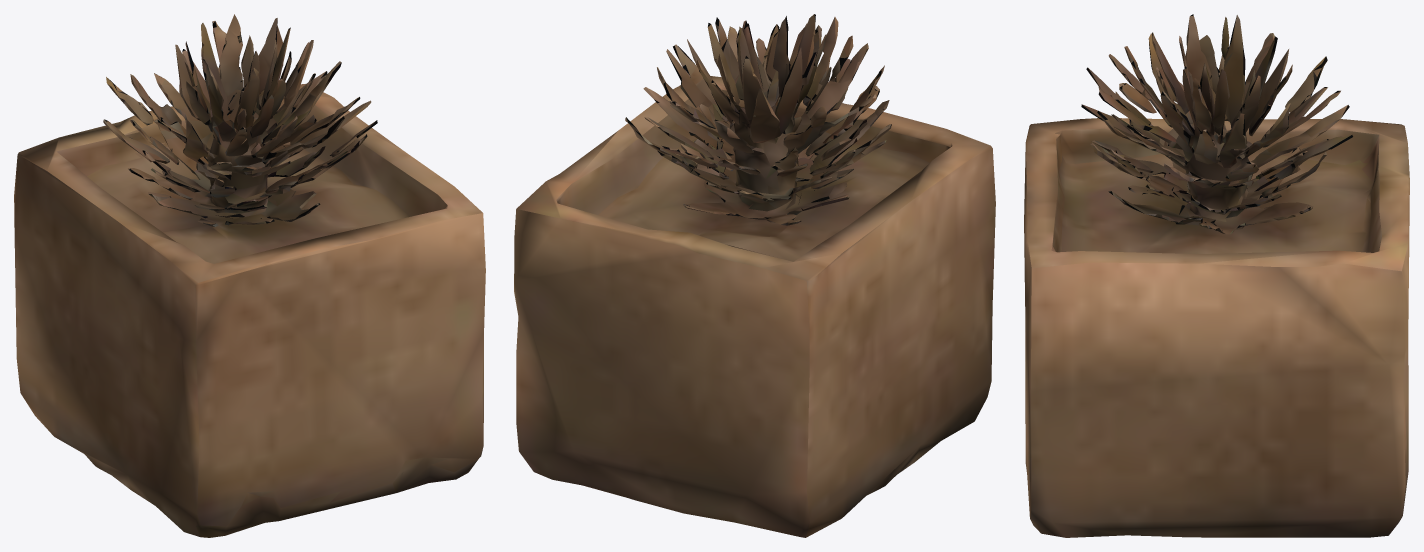
Rendered from rustic-sandstone-planter-v001.glb.
The picture shows the model from 3 angles, left to right: view 1: azimuth 30°, elevation 25°; view 2: azimuth 150°, elevation 25°; view 3: azimuth 270°, elevation 25°; orthographic projection. The views are drawn at different scales.
Visible parts, largest first — view 1: rustic-sandstone-planter; view 2: rustic-sandstone-planter; view 3: rustic-sandstone-planter.
Part boxes in pixels (left/top/right/bottom): rustic-sandstone-planter: left=14, top=14, right=485, bottom=537; rustic-sandstone-planter: left=514, top=14, right=995, bottom=537; rustic-sandstone-planter: left=1024, top=14, right=1409, bottom=537.
Bounding box in the file's own units: 0.4588 × 0.6167 × 0.5066.
1 material, 1 textured.
